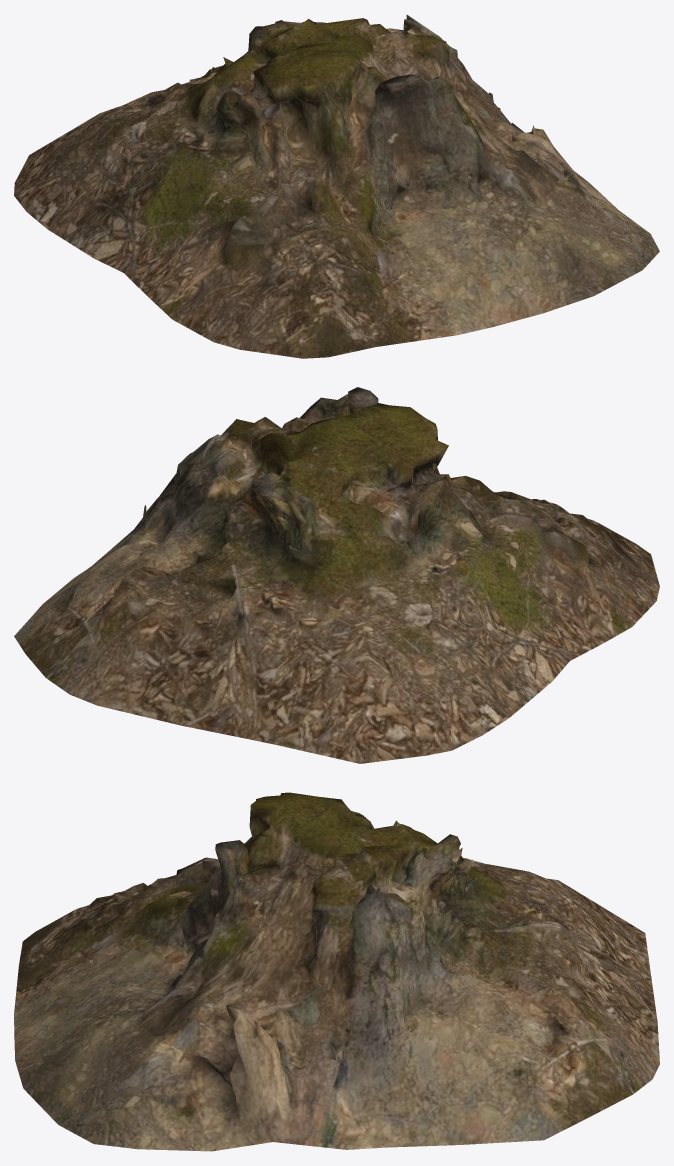
File: tree_stump_01.glb
3 renders of one model, top to bottom at view 1: azimuth 30°, elevation 25°; view 2: azimuth 150°, elevation 25°; view 3: azimuth 270°, elevation 25°, orthographic. The views are drawn at different scales.
Parts seen in each view (by area): view 1: tree_stump_01; view 2: tree_stump_01; view 3: tree_stump_01.
Boxes of the visible parts, <box> form: tree_stump_01: <box>14,14,659,358</box>; tree_stump_01: <box>14,387,659,763</box>; tree_stump_01: <box>14,792,659,1151</box>.
Size of the model in its own units: 1.43 by 0.57 by 1.59.
Materials: 1 (1 with a texture image).
